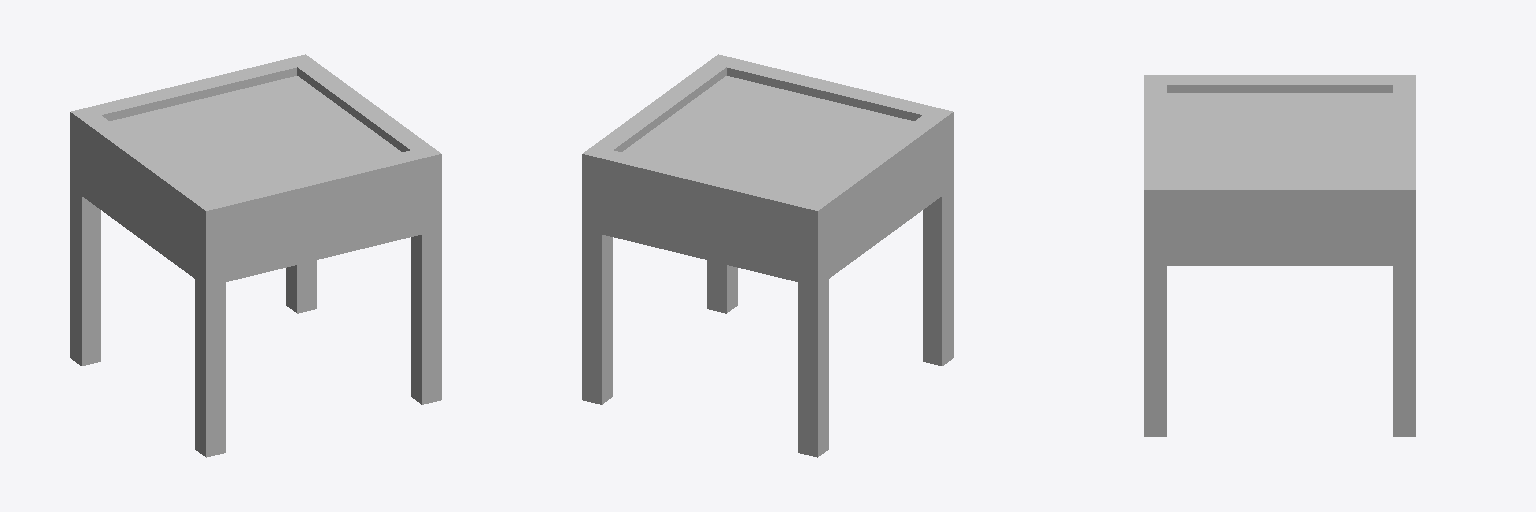
The model's file is sieve_full.obj.
3 renders of one model, left to right at view 1: azimuth 30°, elevation 25°; view 2: azimuth 150°, elevation 25°; view 3: azimuth 270°, elevation 25°, orthographic.
Visible parts, largest first — view 1: Cube_Cube_+y, Cube_Cube_+x; view 2: Cube_Cube_+y, Cube_Cube_+x; view 3: Cube_Cube_+y, Cube_Cube_+x.
Boxes of the visible parts, x1=… form: Cube_Cube_+y: x1=70, y1=54, x2=441, y2=457; Cube_Cube_+x: x1=110, y1=76, x2=401, y2=197; Cube_Cube_+y: x1=582, y1=54, x2=953, y2=457; Cube_Cube_+x: x1=622, y1=76, x2=913, y2=197; Cube_Cube_+y: x1=1144, y1=75, x2=1415, y2=436; Cube_Cube_+x: x1=1167, y1=93, x2=1392, y2=180.
Bounding box in the file's own units: 1 × 1 × 1.